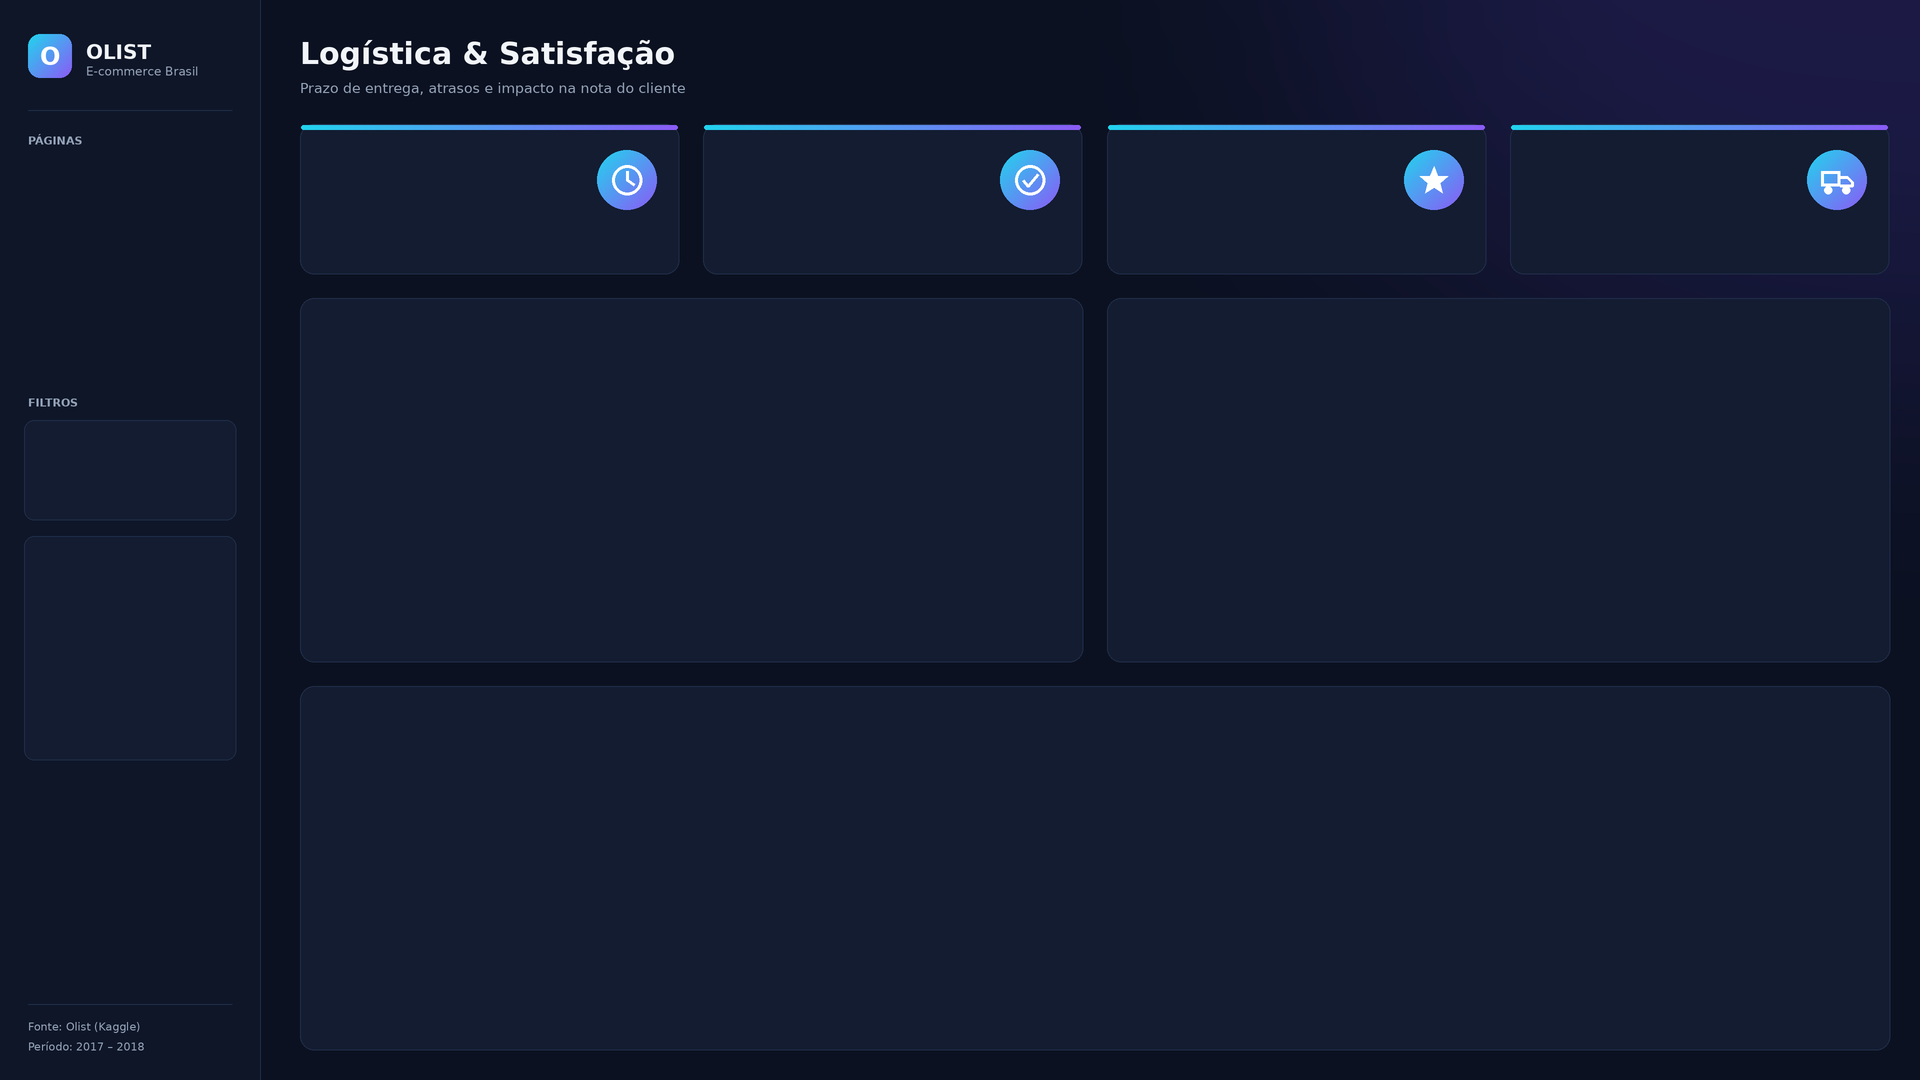

What the dashboard file says about the page in this screenshot:
{"tool":"powerbi","page":{"name":"Logística","canvas":[1920,1080],"ordinal":2},"visuals":[{"type":"cardVisual","fields":{"Data":["_Medidas.Prazo Médio Entrega"]},"box":[320,135,275,115],"z":0},{"type":"cardVisual","fields":{"Data":["_Medidas.% Entregas no Prazo"]},"box":[717.5,135,242.5,115],"z":1000},{"type":"cardVisual","fields":{"Data":["_Medidas.Frete Total"]},"box":[1520,135,252.5,115],"z":2000},{"type":"cardVisual","fields":{"Data":["_Medidas.Nota Média"]},"box":[1135,135,237.5,115],"z":3000},{"type":"lineChart","title":"% de Entregas no Prazo","fields":{"Category":["dCalendario.Ano-Mês"],"Y":["_Medidas.% Entregas no Prazo"]},"box":[312,284,780,368],"z":4000},{"type":"lineChart","title":"Nota Média dos Clientes","fields":{"Category":["dCalendario.Ano-Mês"],"Y":["_Medidas.Nota Média"]},"box":[1122,288,780,368],"z":7000},{"type":"lineClusteredColumnComboChart","title":"Prazo de Entrega × Nota por Estado","fields":{"Category":["dClientes.customer_state"],"Y":["_Medidas.Prazo Médio Entrega (Dias)"],"Y2":["_Medidas.Nota Média"]},"box":[312,694,1590,344],"z":8000},{"type":"pageNavigator","box":[14,172,232,196],"z":8001},{"type":"slicer","fields":{"Values":["dCalendario.Ano"]},"box":[28,428,204,88],"z":8002},{"type":"slicer","fields":{"Values":["dClientes.customer_state"]},"box":[27.1,539.3,204.5,211.7],"z":8003}]}

Visuals, with their boxes on the page's 1920x1080 design canvas (x1, y1, x2, y2). These are canvas units, not pixel positions in the 1920x1080 screenshot, which may show the page scaled, cropped or inside an application window:
cardVisual - _Medidas.Prazo Médio Entrega: [left=320, top=135, right=595, bottom=250]
cardVisual - _Medidas.% Entregas no Prazo: [left=718, top=135, right=960, bottom=250]
cardVisual - _Medidas.Frete Total: [left=1520, top=135, right=1772, bottom=250]
cardVisual - _Medidas.Nota Média: [left=1135, top=135, right=1372, bottom=250]
"% de Entregas no Prazo" lineChart: [left=312, top=284, right=1092, bottom=652]
"Nota Média dos Clientes" lineChart: [left=1122, top=288, right=1902, bottom=656]
"Prazo de Entrega × Nota por Estado" lineClusteredColumnComboChart: [left=312, top=694, right=1902, bottom=1038]
pageNavigator: [left=14, top=172, right=246, bottom=368]
slicer - dCalendario.Ano: [left=28, top=428, right=232, bottom=516]
slicer - dClientes.customer_state: [left=27, top=539, right=232, bottom=751]
